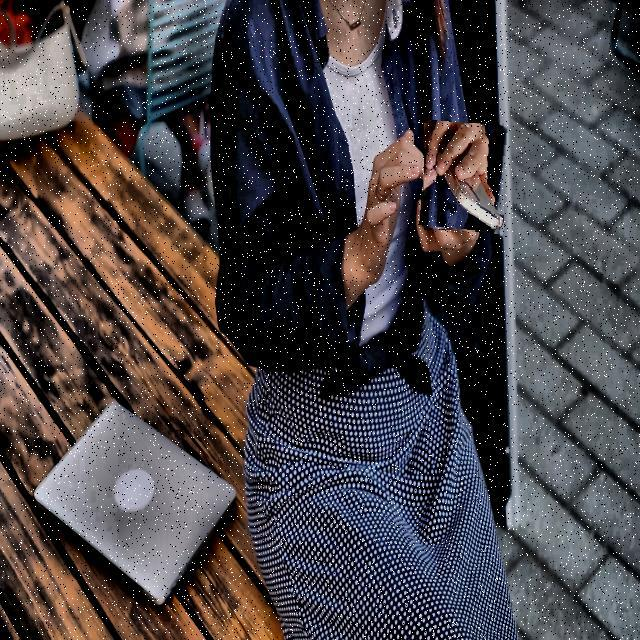Phone: (422, 122, 506, 233)
